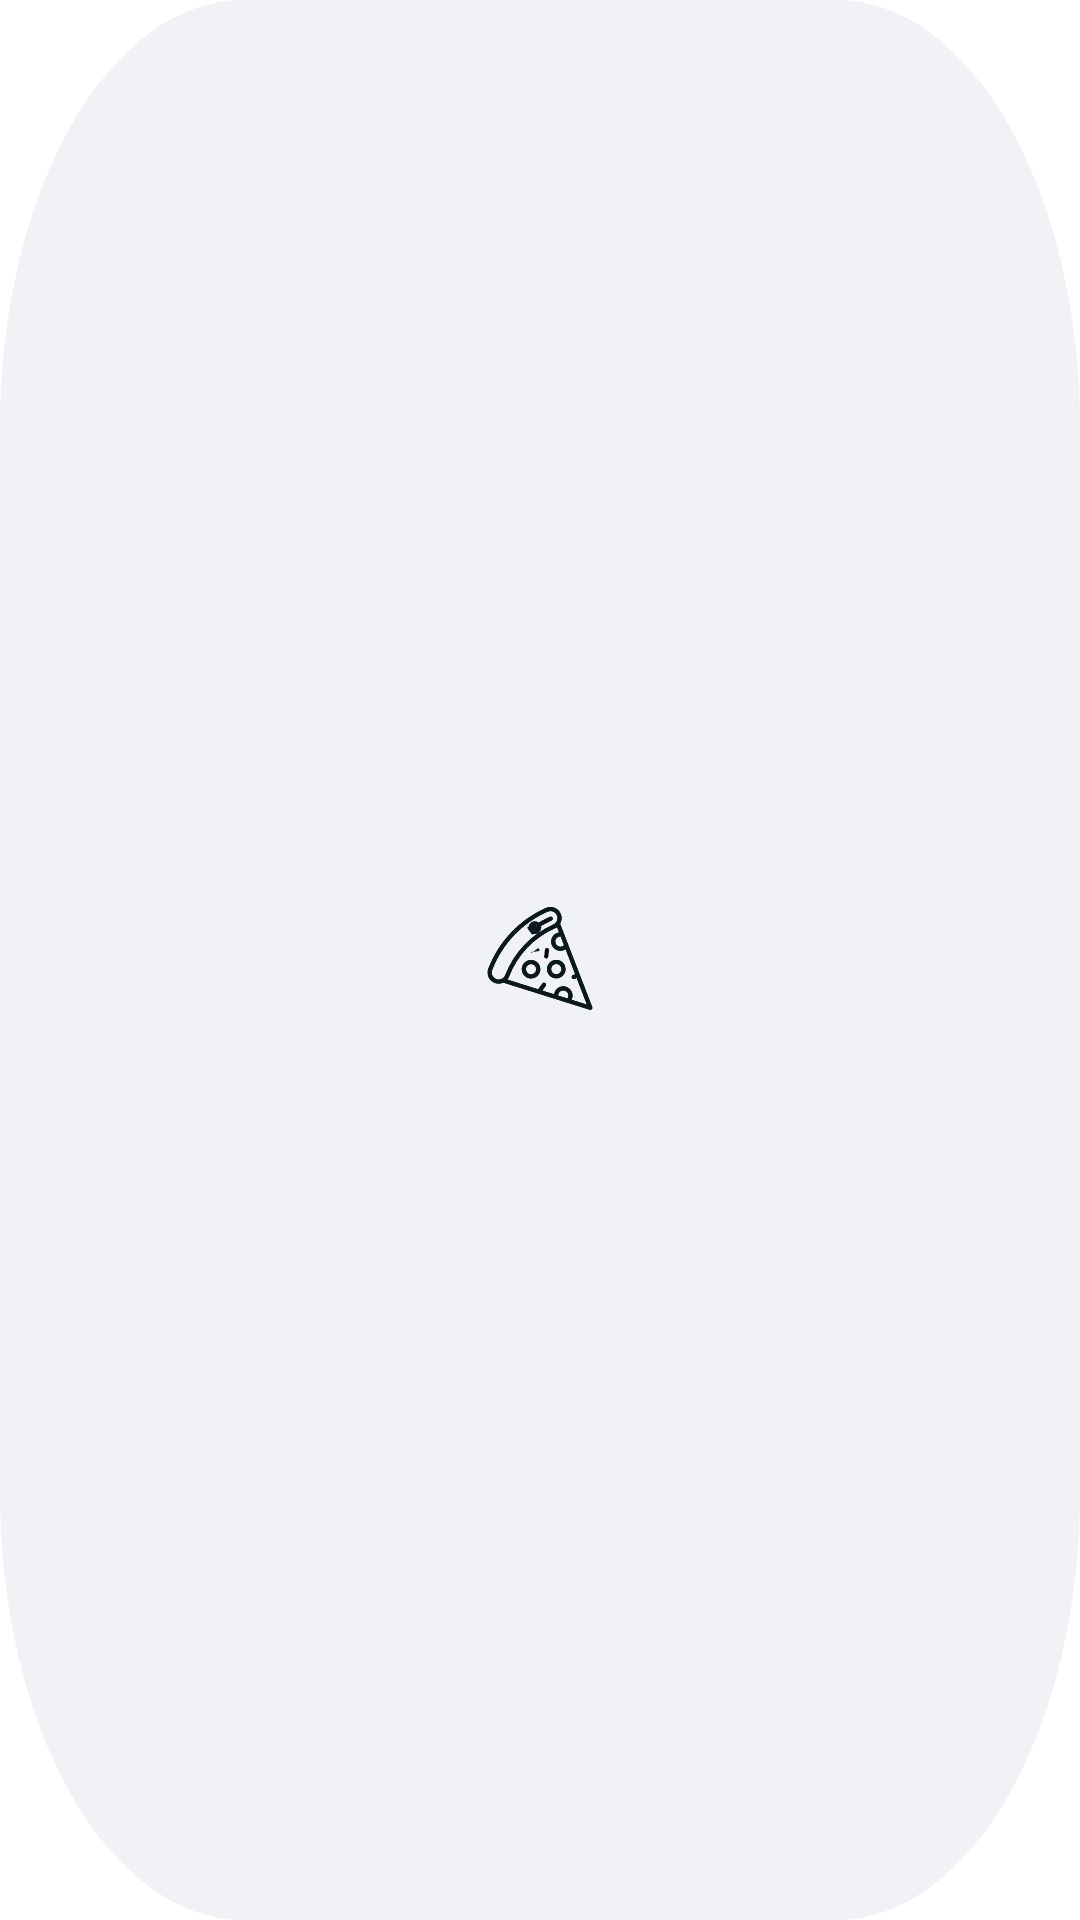

Screen size 1080×1920. Icon name, then its box in pixels as (x1, y1, x2, y2):
pizza: (487, 907, 593, 1010)
